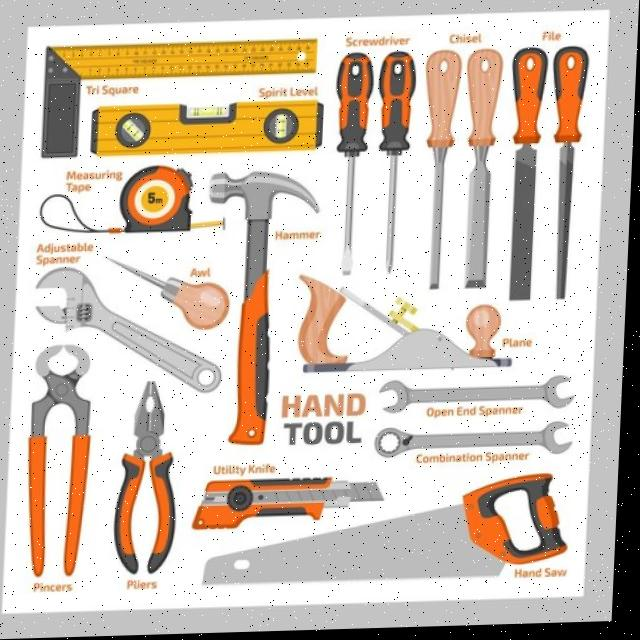Screwdriver: (380, 53, 417, 276), (338, 55, 374, 277)
